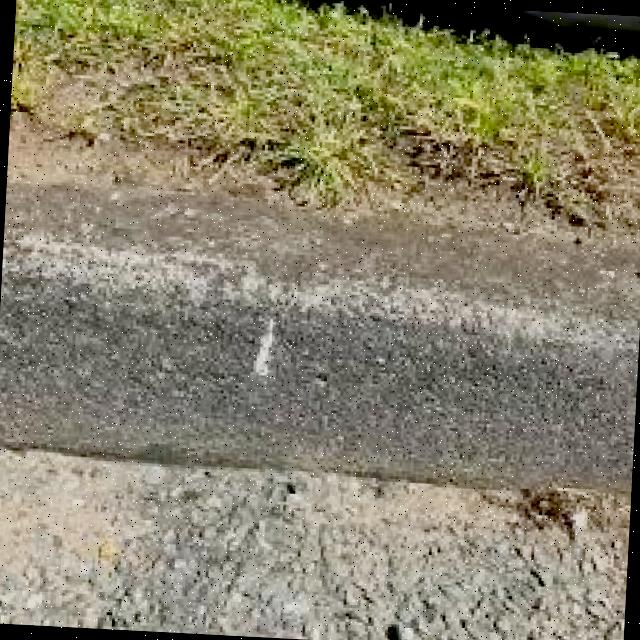curb: (1, 173, 640, 502)
